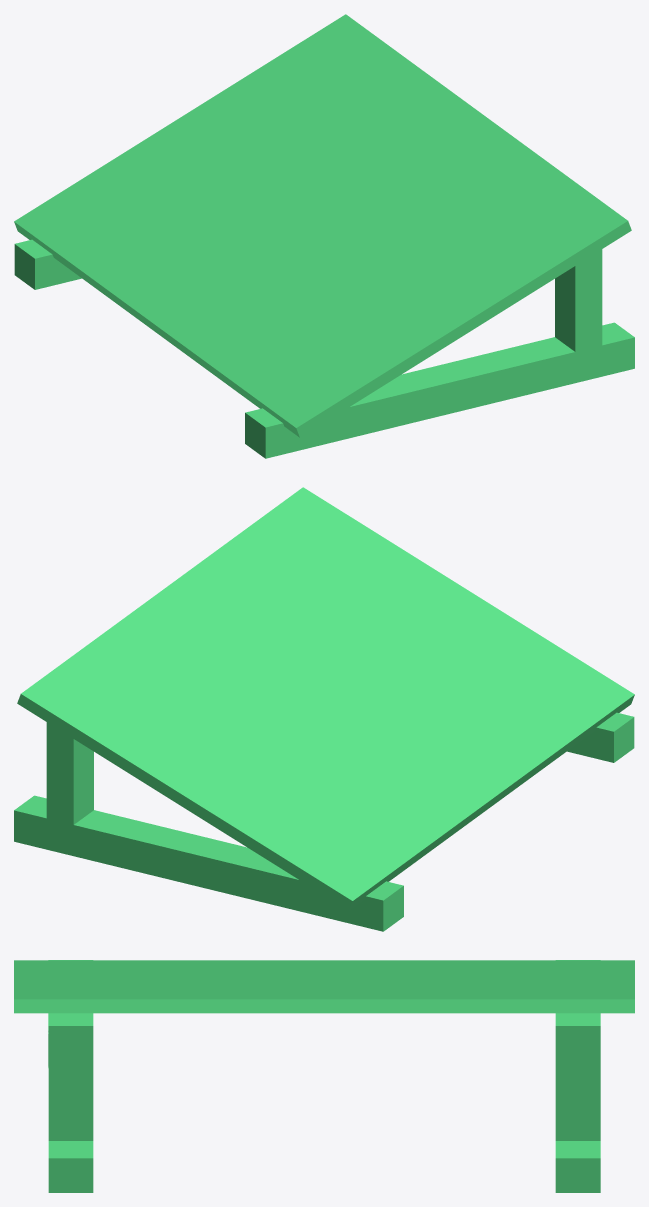
Rendered from SM_EM_DirectionSign.fbx.
3 views of the same model, one above another, from view 1: azimuth 30°, elevation 25°; view 2: azimuth 150°, elevation 25°; view 3: azimuth 270°, elevation 25° (orthographic). The views are drawn at different scales.
Visible parts, largest first — view 1: SM_EM_DirectionSign; view 2: SM_EM_DirectionSign; view 3: SM_EM_DirectionSign.
Part boxes in pixels (bbox=[...]): SM_EM_DirectionSign: bbox=[14, 14, 634, 458]; SM_EM_DirectionSign: bbox=[14, 487, 634, 931]; SM_EM_DirectionSign: bbox=[14, 960, 634, 1192].
Bounding box in the file's own units: 68 × 90 × 29.
